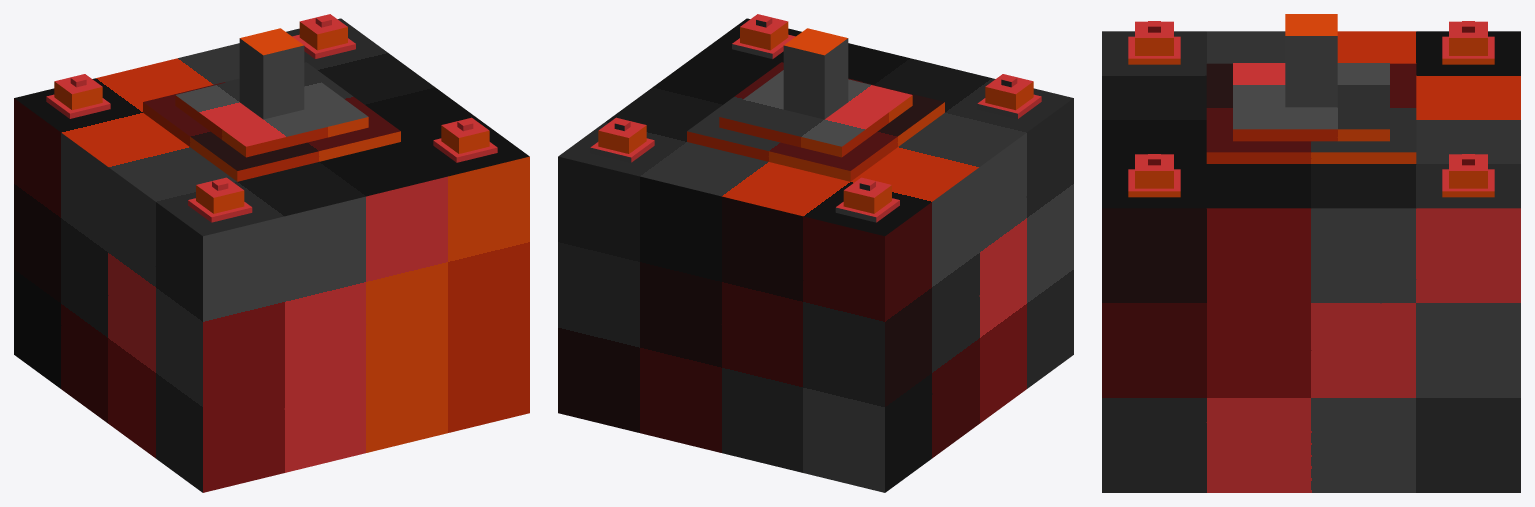
Rendered from netherite_shield_generator_model.obj.
3 renders of one model, left to right at view 1: azimuth 30°, elevation 25°; view 2: azimuth 150°, elevation 25°; view 3: azimuth 270°, elevation 25°, orthographic. The views are drawn at different scales.
Parts seen in each view (by area): view 1: cube_1, cube_5, cube_6, cube_7, cube_4, cube_13, cube_10, cube_16, cube_3, cube_12, cube_15, cube_9; view 2: cube_1, cube_5, cube_6, cube_7, cube_10, cube_16, cube_4, cube_13, cube_9, cube_15, cube_12, cube_3; view 3: cube_1, cube_5, cube_6, cube_7, cube_4, cube_10, cube_13, cube_16, cube_3, cube_9, cube_12, cube_15.
Part boxes in pixels (bbox=[...]): cube_1: bbox=[14, 18, 529, 492]; cube_5: bbox=[175, 70, 368, 157]; cube_6: bbox=[143, 62, 400, 181]; cube_7: bbox=[239, 28, 304, 119]; cube_4: bbox=[441, 117, 489, 153]; cube_13: bbox=[54, 74, 102, 110]; cube_10: bbox=[299, 14, 347, 50]; cube_16: bbox=[196, 177, 244, 213]; cube_3: bbox=[433, 138, 497, 162]; cube_12: bbox=[46, 94, 110, 118]; cube_15: bbox=[188, 198, 252, 222]; cube_9: bbox=[292, 34, 355, 58]; cube_1: bbox=[558, 18, 1073, 492]; cube_5: bbox=[719, 70, 912, 157]; cube_6: bbox=[687, 62, 944, 181]; cube_7: bbox=[783, 28, 848, 119]; cube_10: bbox=[598, 117, 646, 153]; cube_16: bbox=[985, 74, 1033, 110]; cube_4: bbox=[740, 14, 788, 50]; cube_13: bbox=[843, 177, 891, 213]; cube_9: bbox=[590, 138, 654, 162]; cube_15: bbox=[977, 94, 1041, 118]; cube_12: bbox=[835, 198, 899, 222]; cube_3: bbox=[732, 34, 795, 58]; cube_1: bbox=[1102, 31, 1520, 492]; cube_5: bbox=[1233, 63, 1389, 141]; cube_6: bbox=[1206, 63, 1416, 163]; cube_7: bbox=[1285, 14, 1337, 107]; cube_4: bbox=[1135, 154, 1173, 188]; cube_10: bbox=[1449, 154, 1487, 188]; cube_13: bbox=[1449, 21, 1487, 55]; cube_16: bbox=[1135, 21, 1173, 55]; cube_3: bbox=[1128, 169, 1180, 197]; cube_9: bbox=[1442, 169, 1494, 197]; cube_12: bbox=[1442, 36, 1494, 64]; cube_15: bbox=[1128, 36, 1180, 64].
Size of the model in its own units: 1 by 1 by 1.
